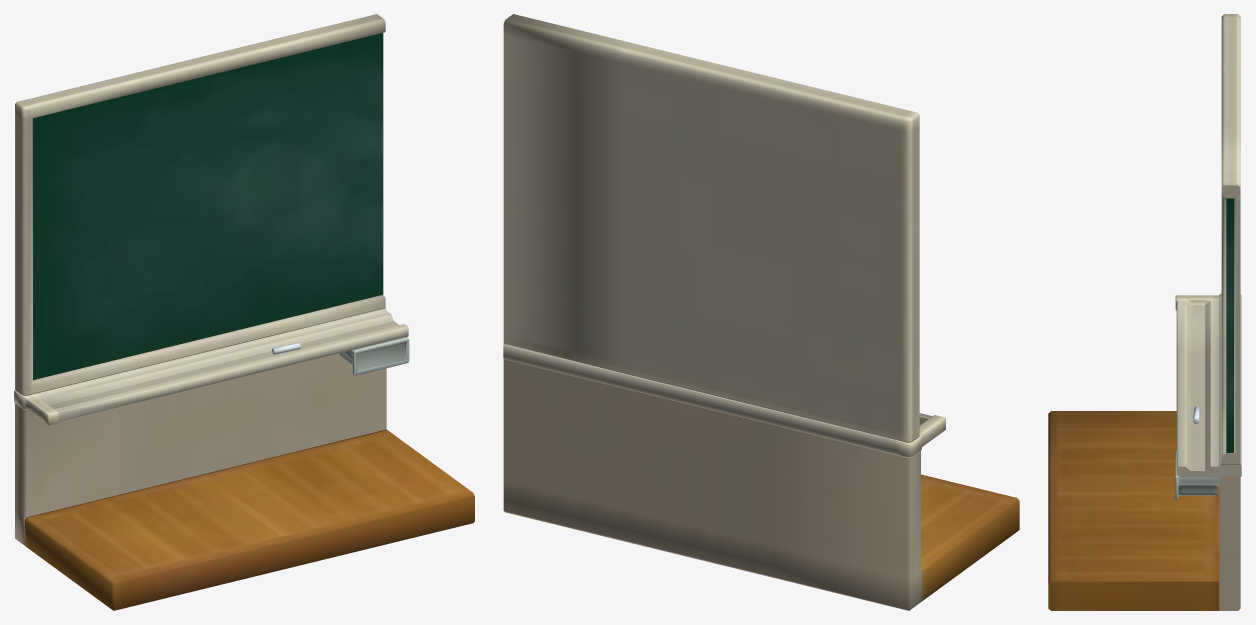
3 views of the same model, side by side, from view 1: azimuth 30°, elevation 25°; view 2: azimuth 150°, elevation 25°; view 3: azimuth 270°, elevation 25° (orthographic). The views are drawn at different scales.
Bounding box in the file's own units: 19.04 × 22 × 9.04.
Materials: 1 (1 with a texture image).
